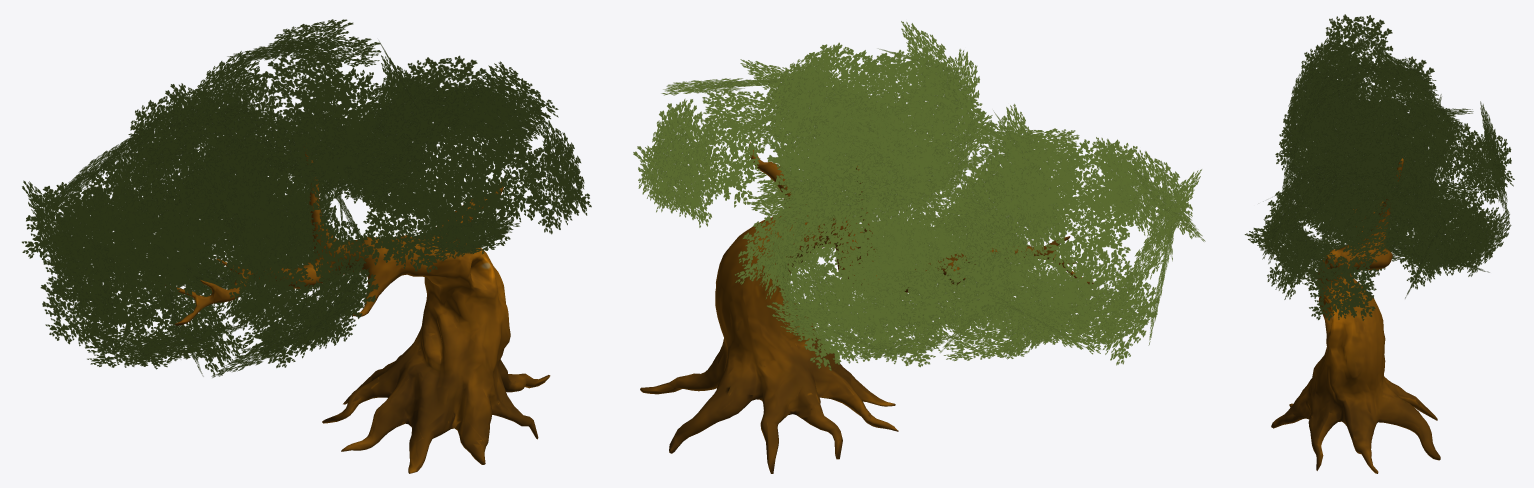
Rendered from Tree.glb.
The picture shows the model from 3 angles, left to right: view 1: azimuth 30°, elevation 25°; view 2: azimuth 150°, elevation 25°; view 3: azimuth 270°, elevation 25°; orthographic projection. The views are drawn at different scales.
Parts seen in each view (by area): view 1: BaseLeafPlane.001, TreeLP; view 2: BaseLeafPlane.001, TreeLP; view 3: BaseLeafPlane.001, TreeLP.
Part boxes in pixels (left/top/right/bottom): BaseLeafPlane.001: left=22, top=19, right=591, bottom=377; TreeLP: left=165, top=147, right=550, bottom=473; BaseLeafPlane.001: left=633, top=21, right=1205, bottom=370; TreeLP: left=640, top=142, right=1093, bottom=473; BaseLeafPlane.001: left=1244, top=14, right=1514, bottom=320; TreeLP: left=1271, top=158, right=1440, bottom=473.
Bounding box in the file's own units: 29.26 × 21.65 × 16.62.
Materials: 2 (2 with a texture image).
